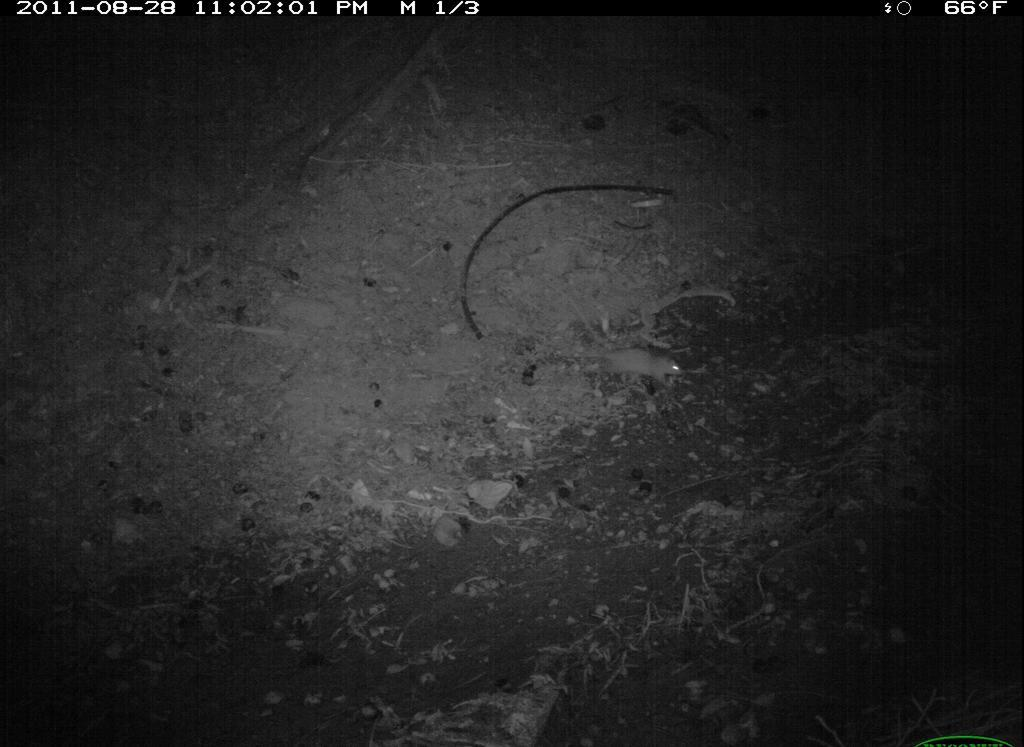opossum: (552, 333, 693, 397)
